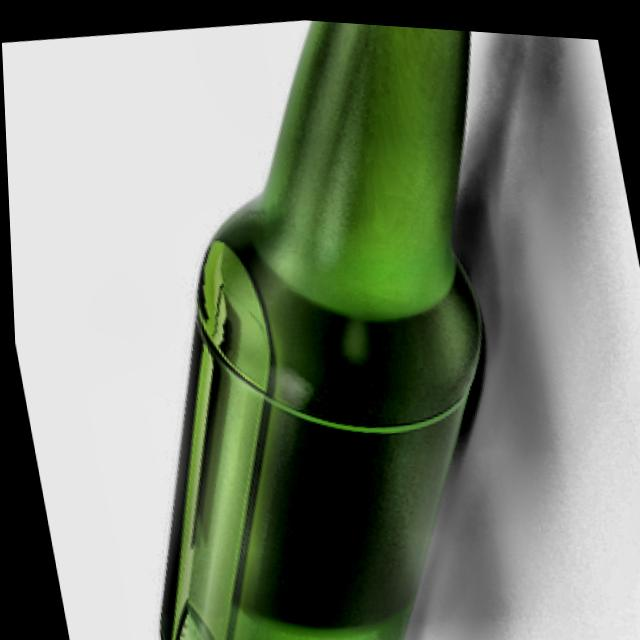glass: (151, 17, 483, 640)
